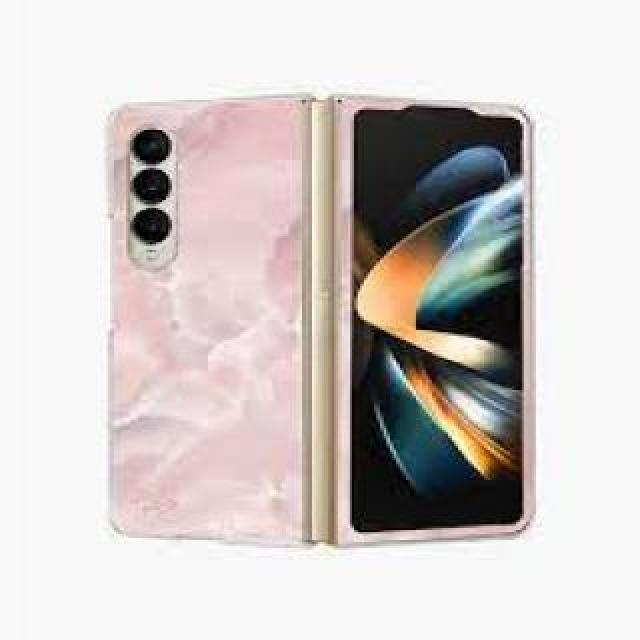smart phone: (345, 87, 570, 560), (109, 76, 308, 572)
